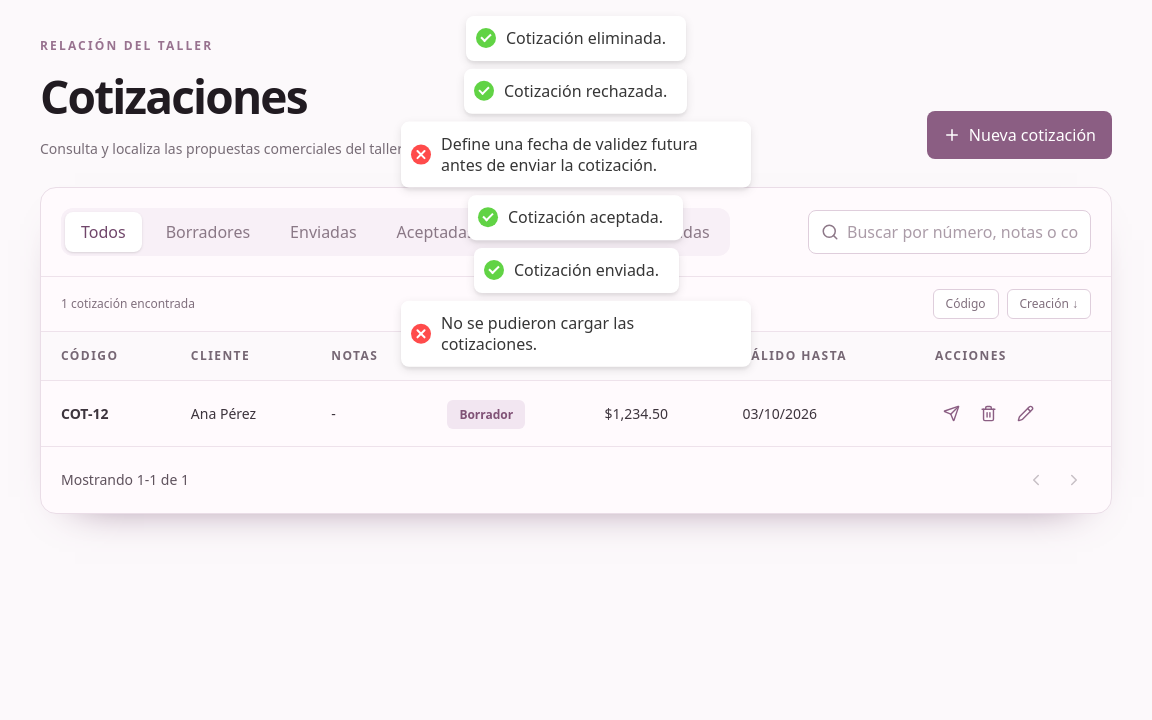
Test case: QuotesPage › shows the API error after a failed lifecycle action
The width and height of the screenshot is (1152, 720).
Expected: the text "COT-12" is shown, [61, 404, 108, 422]
Click the button named "Enviar cotización" at (952, 414), box [935, 397, 968, 430]
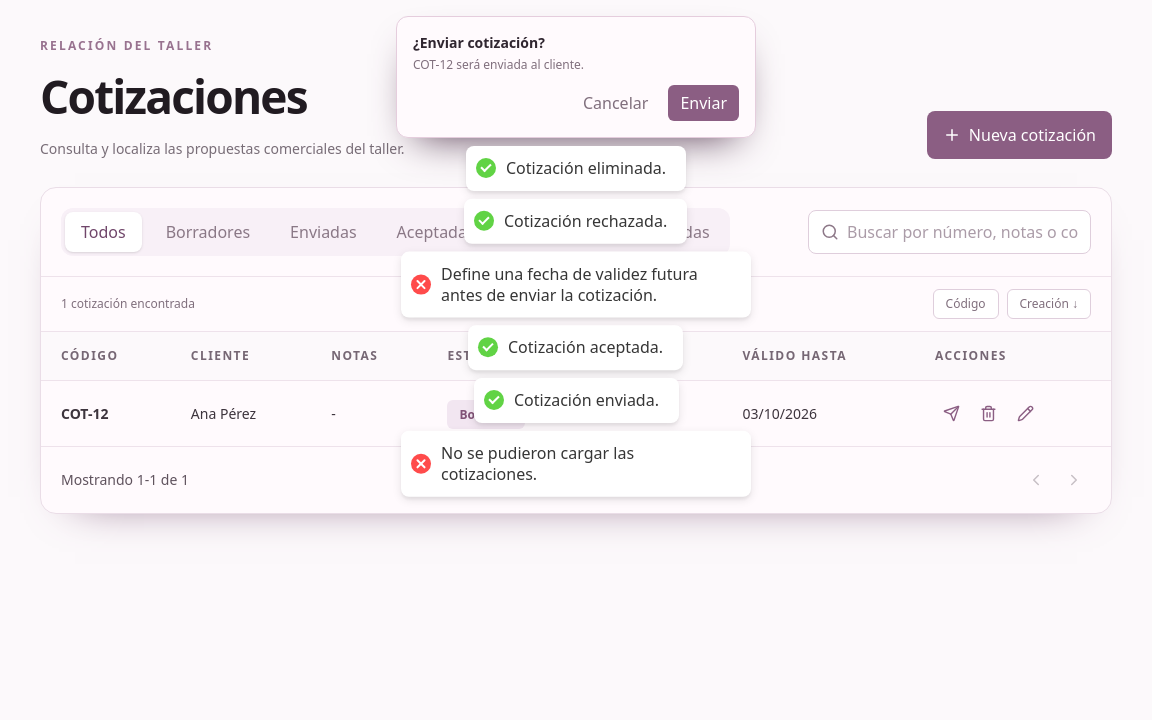
Click the button "Enviar" at (704, 103), box [668, 85, 739, 121]
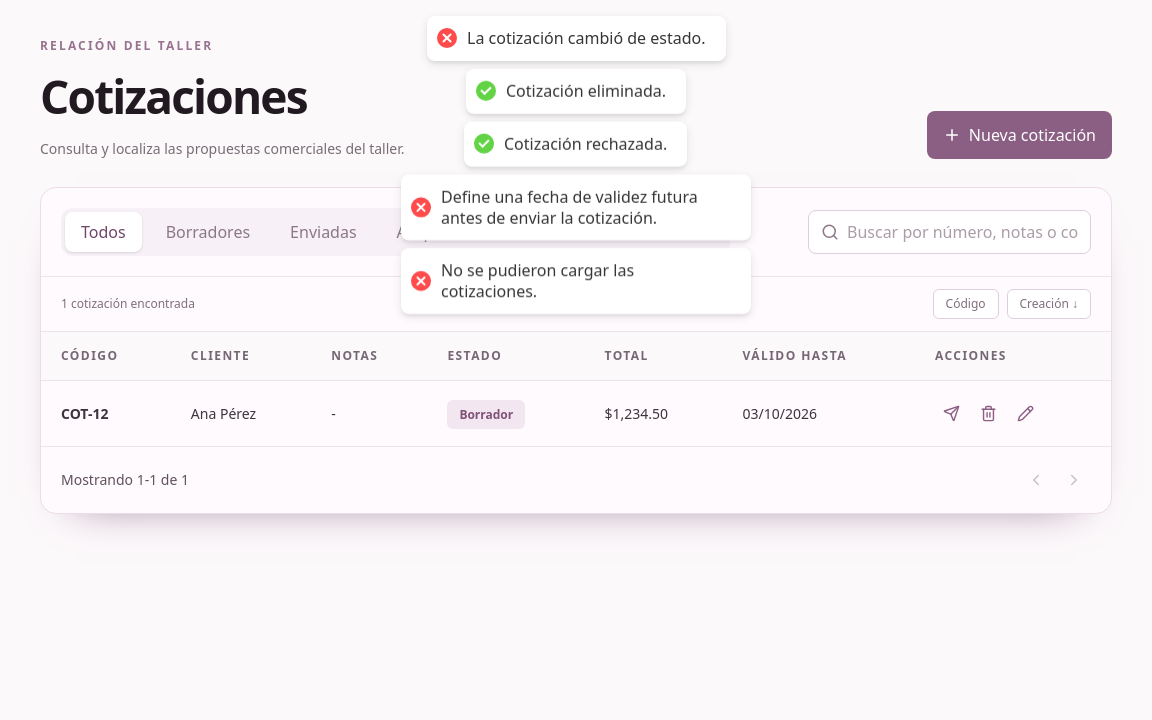
Now the text "La cotización cambió de estado." is shown, box [467, 28, 705, 49]
